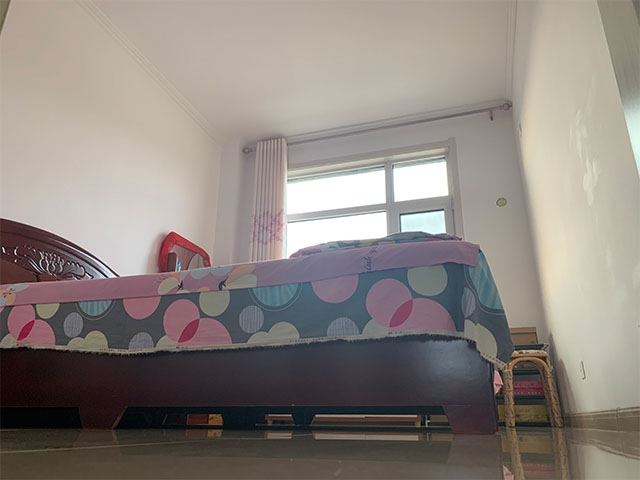bed: (1, 216, 515, 436)
curtain: (250, 136, 286, 260)
stool: (498, 350, 564, 429)
